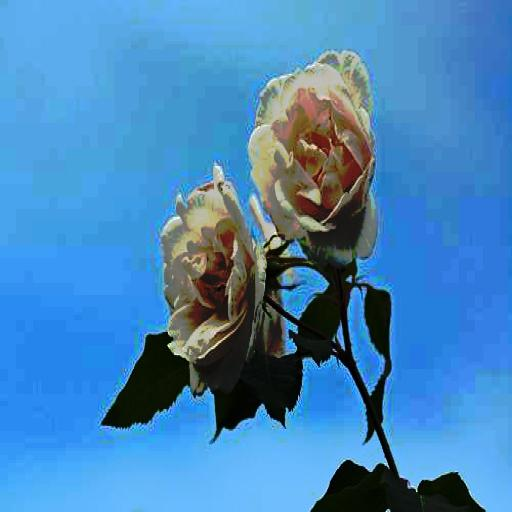rose: (160, 162, 286, 394), (248, 48, 377, 270)
